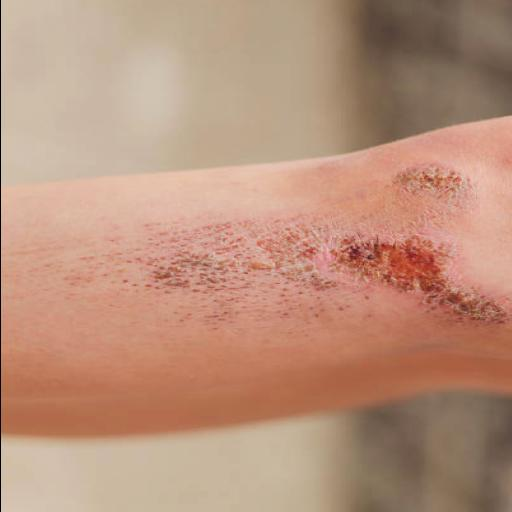bruises: (242, 236, 454, 298)
